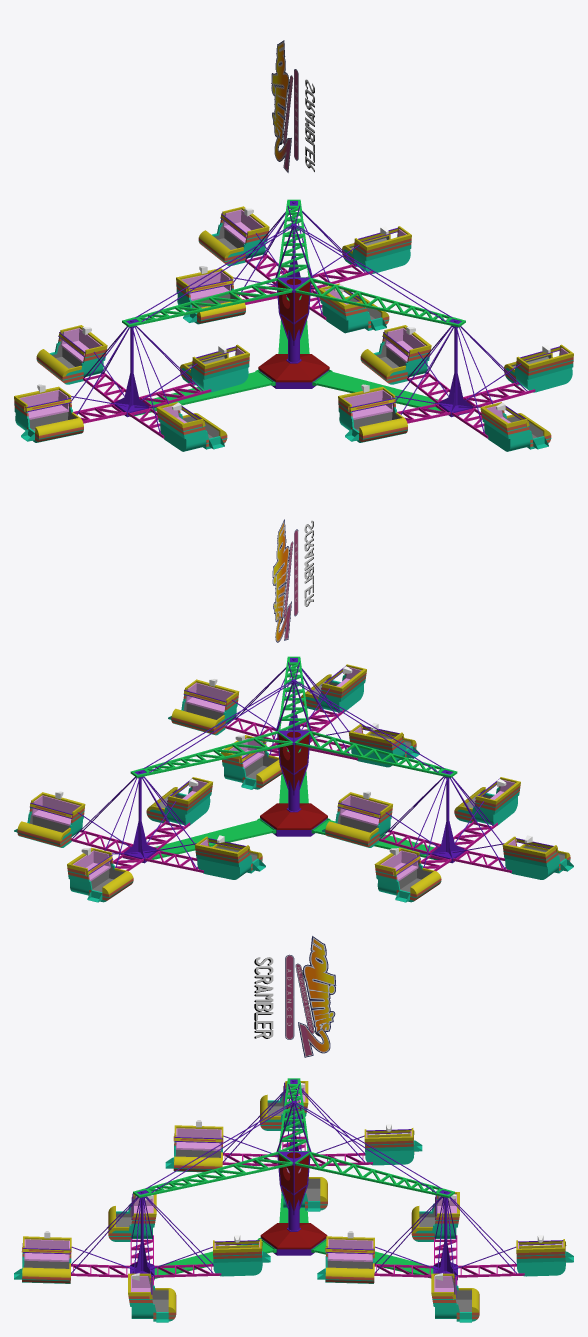
The model's file is scrambler.dae.
3 renders of one model, top to bottom at view 1: azimuth 30°, elevation 25°; view 2: azimuth 150°, elevation 25°; view 3: azimuth 270°, elevation 25°, orthographic. The views are drawn at different scales.
Parts seen in each view (by area): view 1: group_6 (×14), group_1, instance_1 (×2), instance_0 (×2), main, instance_2; view 2: group_6 (×11), group_1, instance_2 (×2), instance_0 (×2), main, instance_1; view 3: group_6 (×8), group_1, instance_1 (×2), instance_2 (×2), main, instance_0.
Boxes of the visible parts, x1,y1,x2,y2 form: group_6 (×14): (19, 209, 573, 451); group_1: (271, 40, 314, 172); instance_1 (×2): (295, 278, 465, 415); instance_0 (×2): (122, 278, 292, 416); main: (258, 354, 329, 382); instance_2: (277, 199, 310, 277); group_6 (×11): (32, 674, 570, 881); group_1: (272, 519, 313, 642); instance_2 (×2): (130, 731, 293, 859); instance_0 (×2): (294, 731, 457, 862); main: (260, 803, 327, 829); instance_1: (278, 656, 309, 730); group_6 (×8): (24, 1128, 565, 1276); group_1: (254, 936, 336, 1057); instance_1 (×2): (133, 1151, 292, 1278); instance_2 (×2): (295, 1151, 454, 1278); main: (260, 1223, 327, 1249); instance_0: (278, 1078, 309, 1151).
Size of the model in its own units: 513 by 553 by 340.
Materials: 12 (1 with a texture image).
